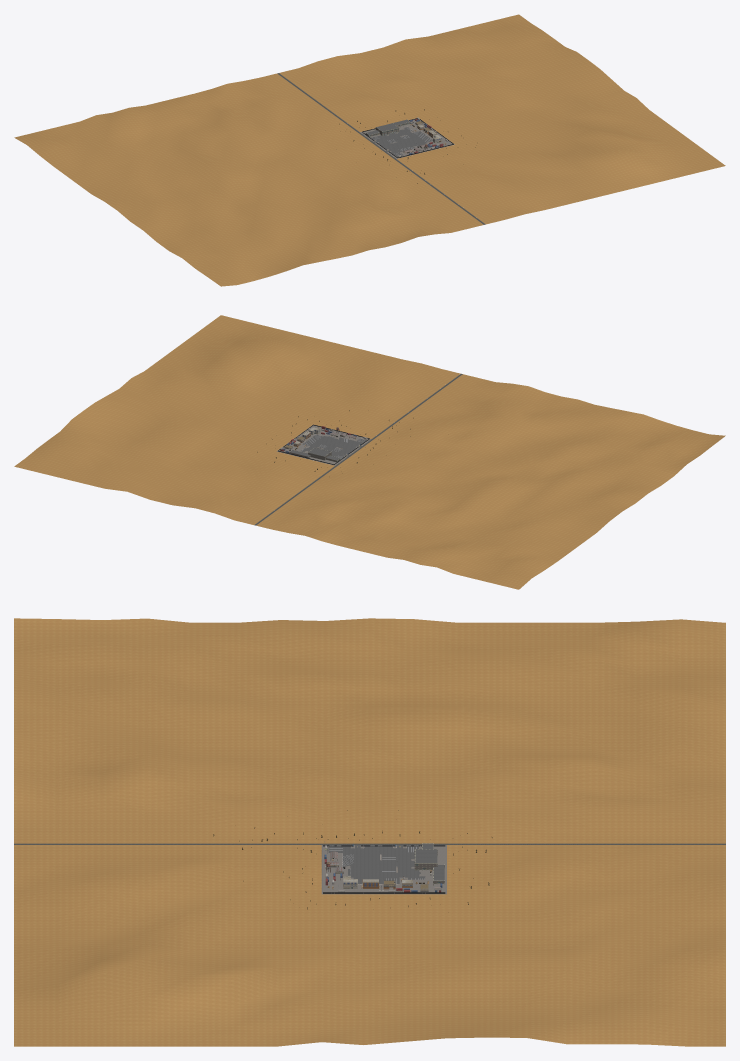
Rendered from menu_map_-_army_extreme_car_driving_3d.glb.
The picture shows the model from 3 angles, top to bottom: view 1: azimuth 30°, elevation 25°; view 2: azimuth 150°, elevation 25°; view 3: azimuth 270°, elevation 25°; orthographic projection. The views are drawn at different scales.
Visible parts, largest first — view 1: pavement_outside, ground_asphalt, road; view 2: pavement_outside, ground_asphalt, road; view 3: pavement_outside, ground_asphalt, road, pavement_straight554, concrete_ground_4.
Part boxes in pixels (left/top/right/bottom): pavement_outside: left=14, top=14, right=725, bottom=286; ground_asphalt: left=370, top=127, right=432, bottom=156; road: left=277, top=73, right=485, bottom=224; pavement_outside: left=14, top=315, right=725, bottom=589; ground_asphalt: left=300, top=434, right=366, bottom=458; road: left=254, top=373, right=462, bottom=525; pavement_outside: left=14, top=618, right=725, bottom=1046; ground_asphalt: left=328, top=845, right=425, bottom=883; road: left=14, top=843, right=725, bottom=844; pavement_straight554: left=353, top=845, right=446, bottom=894; concrete_ground_4: left=322, top=845, right=354, bottom=894.
Bounding box in the file's own units: 1571 × 28.81 × 1115.
35 materials, 35 textured.
